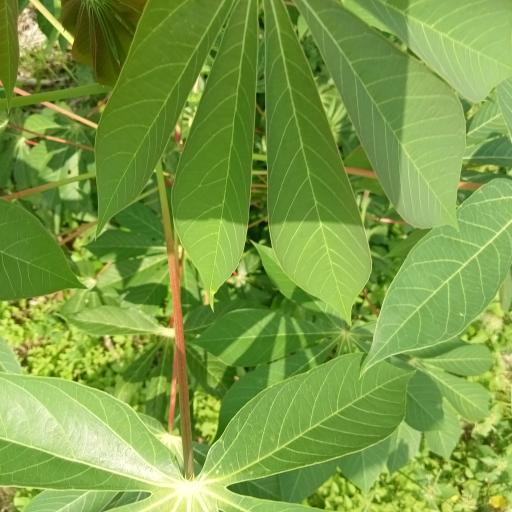Cassava_Healthy: (94, 0, 512, 317), (0, 352, 425, 512)
